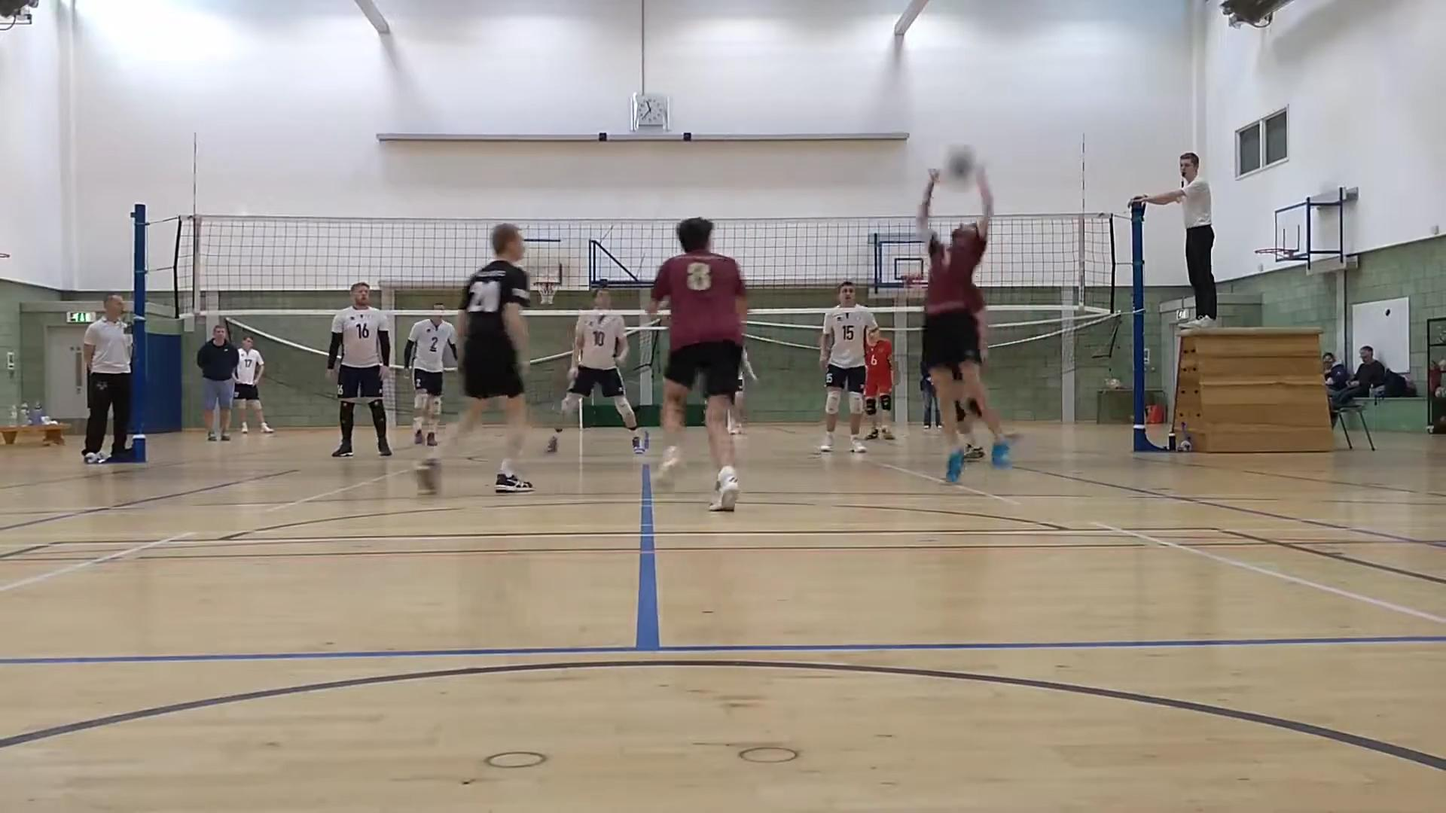Player: (417, 224, 532, 493), (649, 218, 746, 510), (547, 287, 645, 454), (327, 282, 391, 456), (819, 282, 877, 452), (403, 303, 456, 446), (864, 326, 894, 439), (728, 348, 758, 434), (954, 400, 985, 460)
Set: (917, 168, 1018, 484)
ball: (944, 142, 980, 188)
